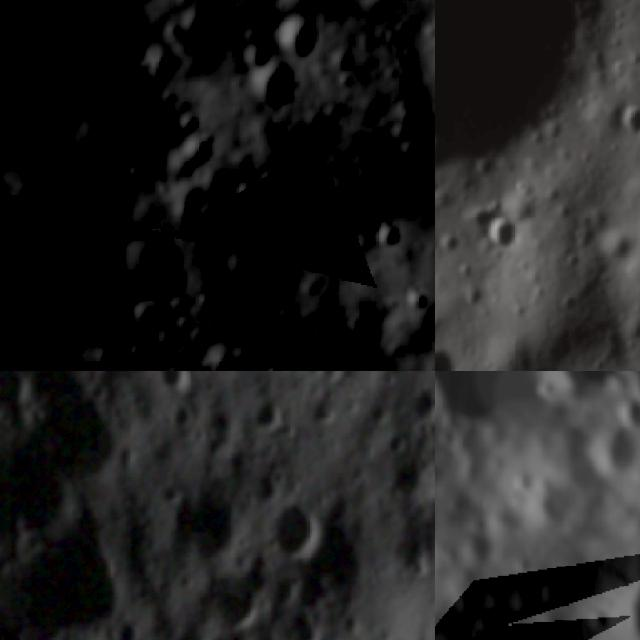crater: (435, 0, 604, 200), (435, 371, 573, 438), (21, 194, 103, 288), (108, 234, 188, 301), (174, 498, 248, 562), (578, 406, 640, 481), (267, 494, 328, 566), (66, 119, 130, 184), (210, 570, 276, 633), (522, 474, 580, 534), (591, 218, 640, 275), (476, 206, 524, 260), (549, 371, 630, 403), (250, 66, 298, 116), (274, 19, 322, 67), (140, 50, 187, 93), (455, 524, 498, 569), (173, 182, 211, 232), (374, 215, 414, 260), (542, 566, 583, 609), (506, 457, 541, 499), (250, 394, 285, 435), (0, 325, 30, 371), (398, 282, 435, 319), (347, 313, 381, 352), (613, 99, 640, 147), (613, 382, 640, 430), (403, 539, 435, 579), (435, 336, 471, 371), (0, 0, 32, 39), (0, 263, 17, 323), (364, 398, 396, 428), (167, 403, 199, 432), (307, 397, 339, 426), (284, 0, 340, 16), (386, 429, 414, 457), (410, 385, 435, 416), (157, 371, 195, 391), (0, 190, 18, 229), (265, 462, 290, 487), (211, 0, 262, 12), (172, 627, 209, 640), (258, 360, 295, 371), (18, 356, 45, 371), (0, 117, 9, 143)
